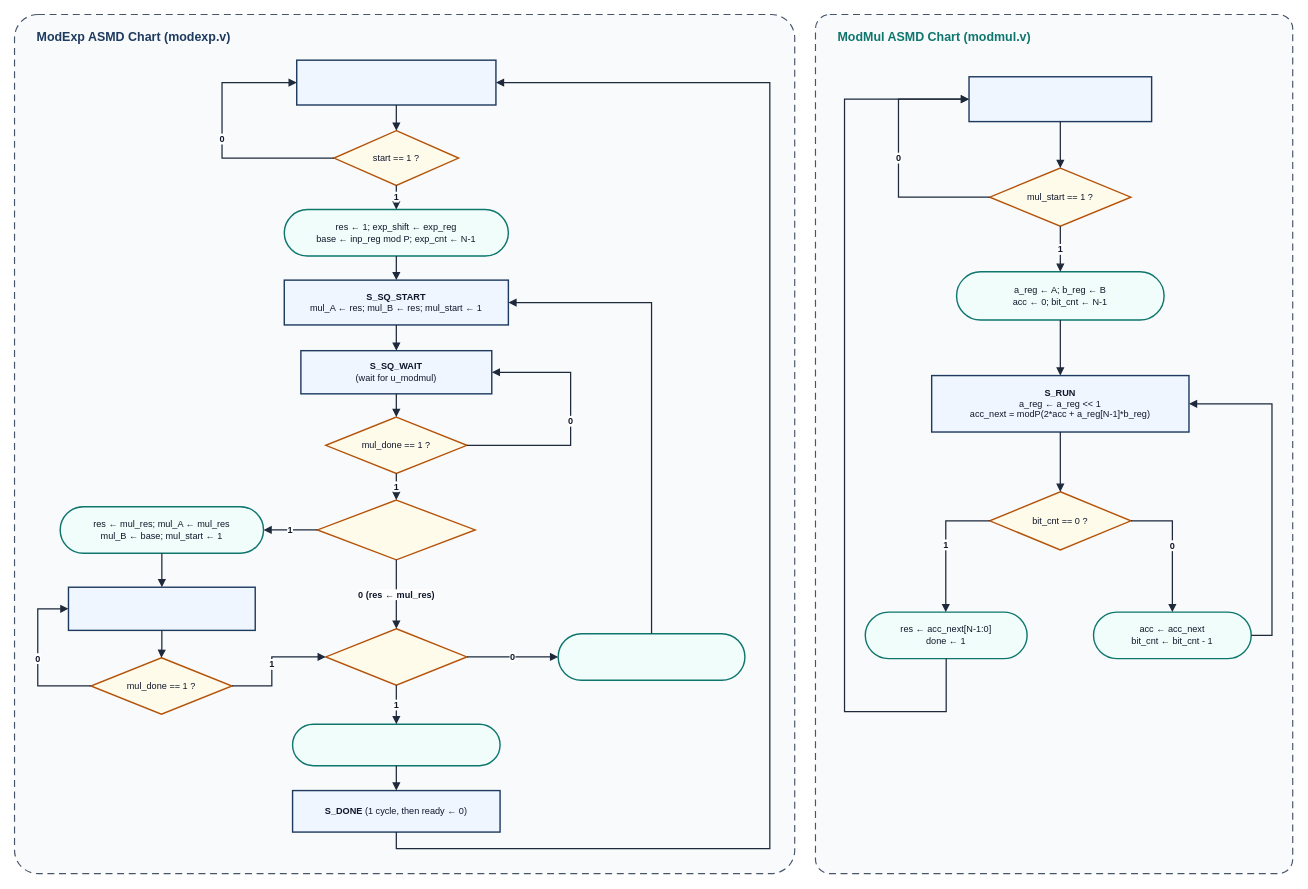
Image size: 1308x889. Some labels were removed from this diagram. The shapes that lost their labels are listed below. From the top down, each one's centre as x and y in pixels, then its label:
the point at 396,82: S_IDLE ready ← 0; mul_start ← 0
the point at 1060,99: S_IDLE done ← 0
the point at 396,529: exp_shift[N-1] == 1 ?
the point at 161,608: S_MUL_WAIT (wait for u_modmul)
the point at 396,656: exp_cnt == 0 ?
the point at 651,657: exp_shift ← exp_shift << 1 exp_cnt ← exp_cnt - 1
the point at 395,744: modexp_out ← mul_res; ready ← 1
